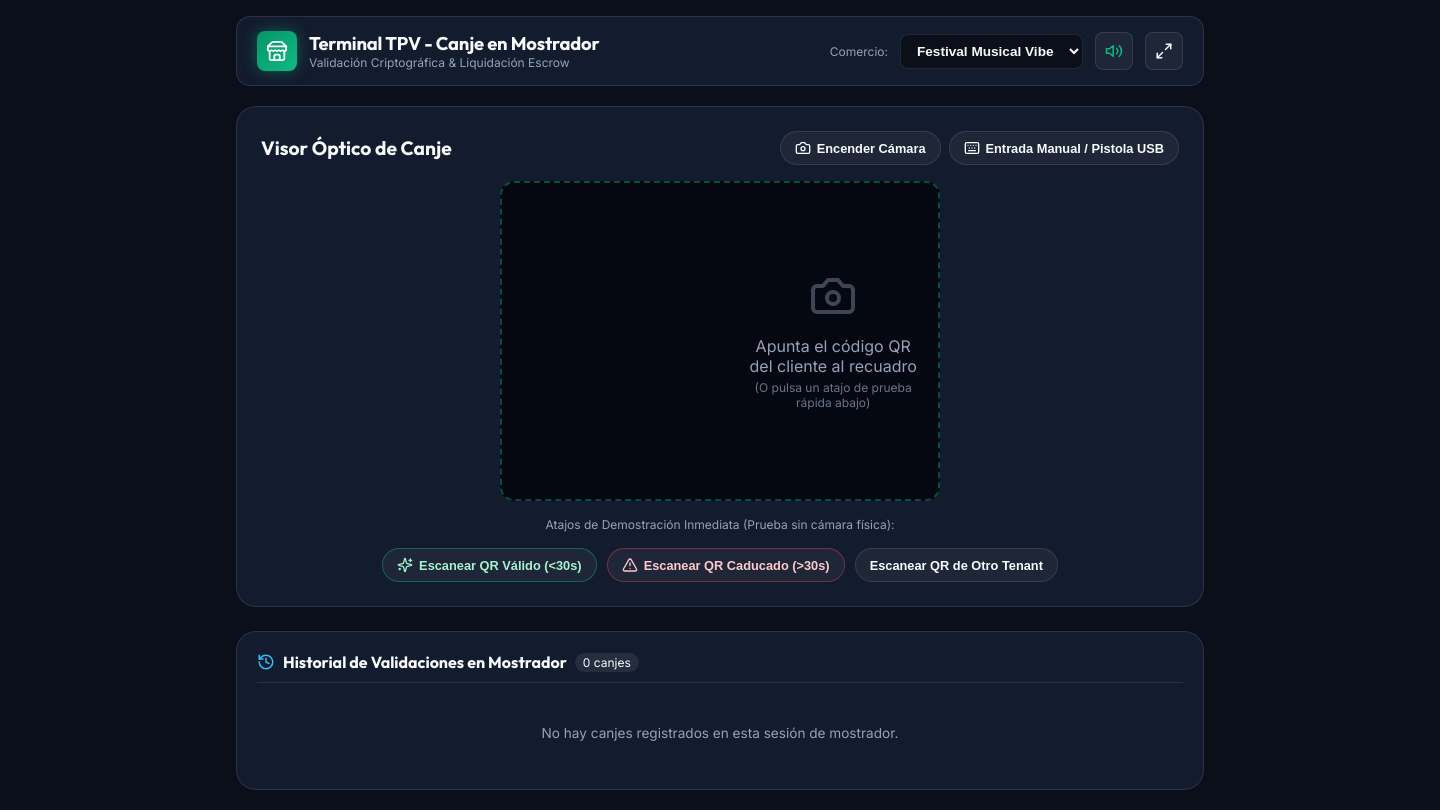
Test case: Terminal TPV - Scanner de Canje Físico (US-06 / TASK-008) › Debe rechazar un token caducado (>30s) y mostrar pantalla roja de error
Click the button "Escanear QR Caducado (>30s)". click: {"x": 726, "y": 565}
box: [607,548,845,582]
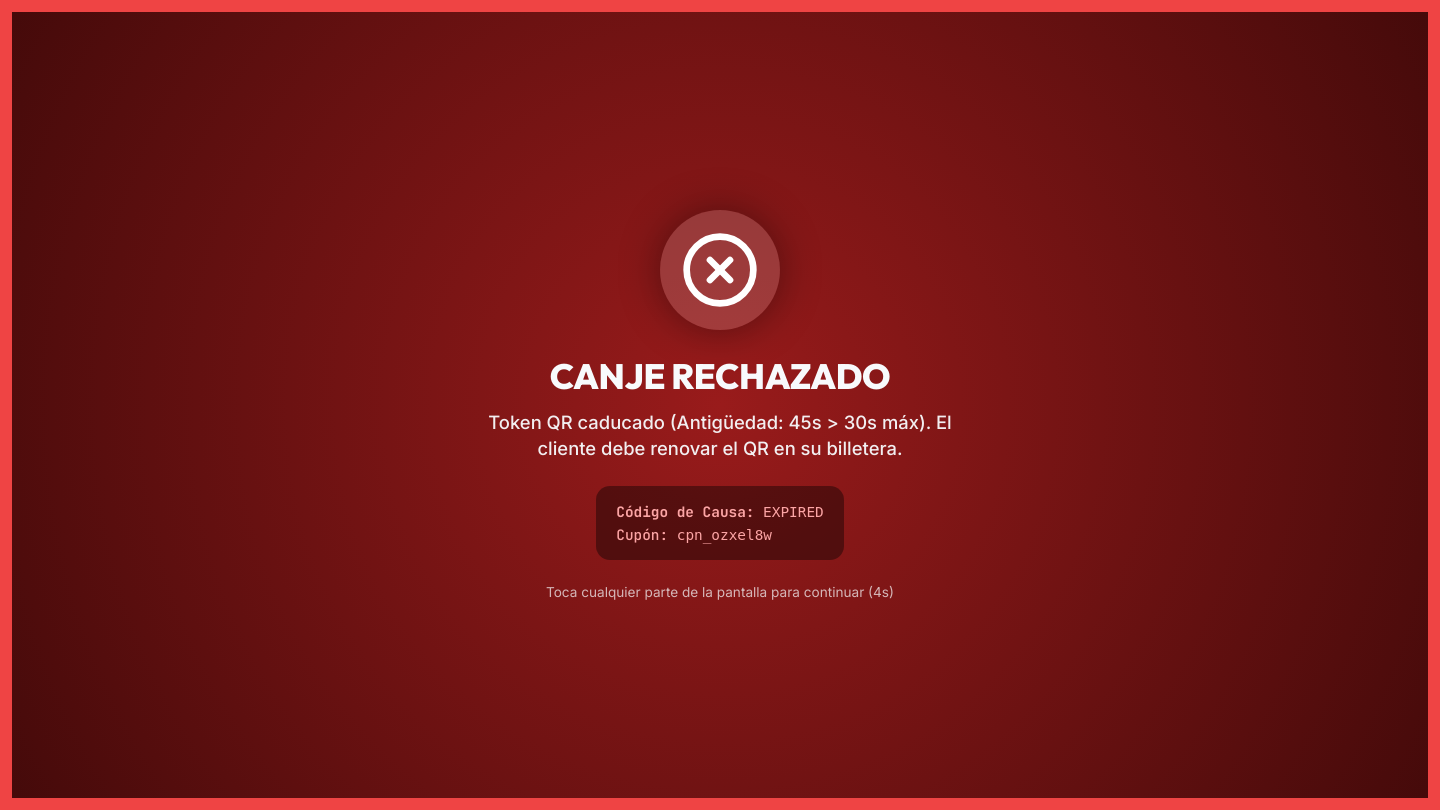
Check: the heading "Canje Rechazado" is shown, box [550,354,890,398]
